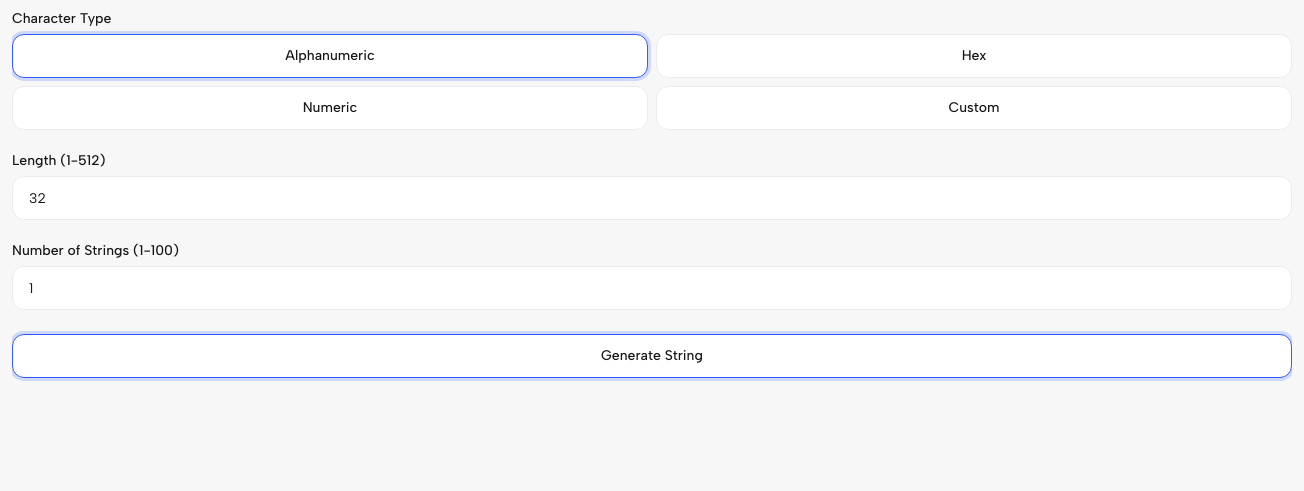
Test: RandomStringGeneratorTool › generates a random string
This screenshot has width=1304, height=491.
Click the button "Generate String".
click(652, 356)  # box [12,334,1292,378]
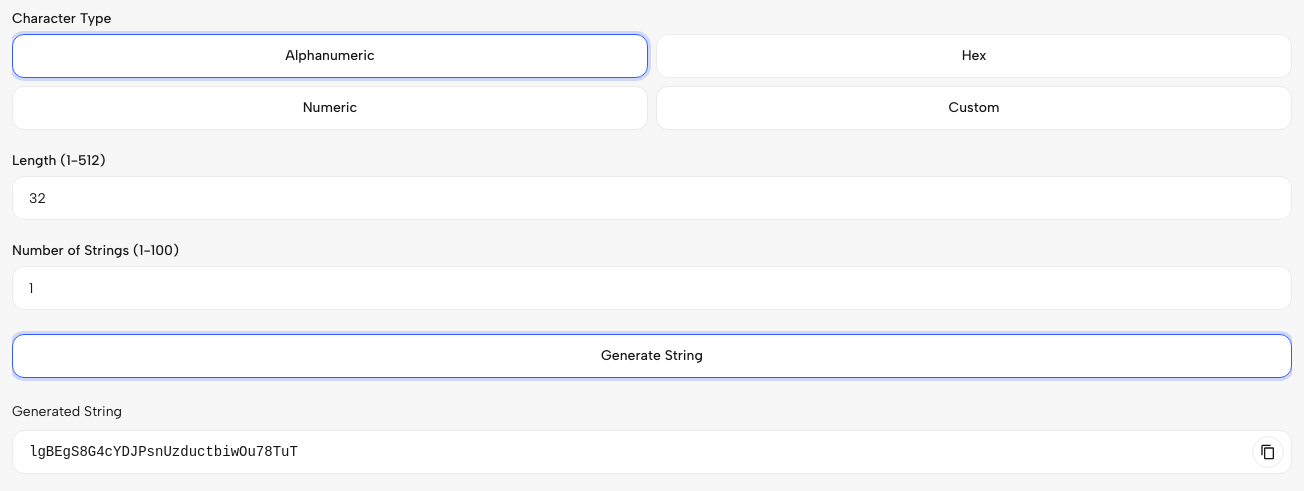
Result: the text "Generated String" is shown at [12,403,122,420]
